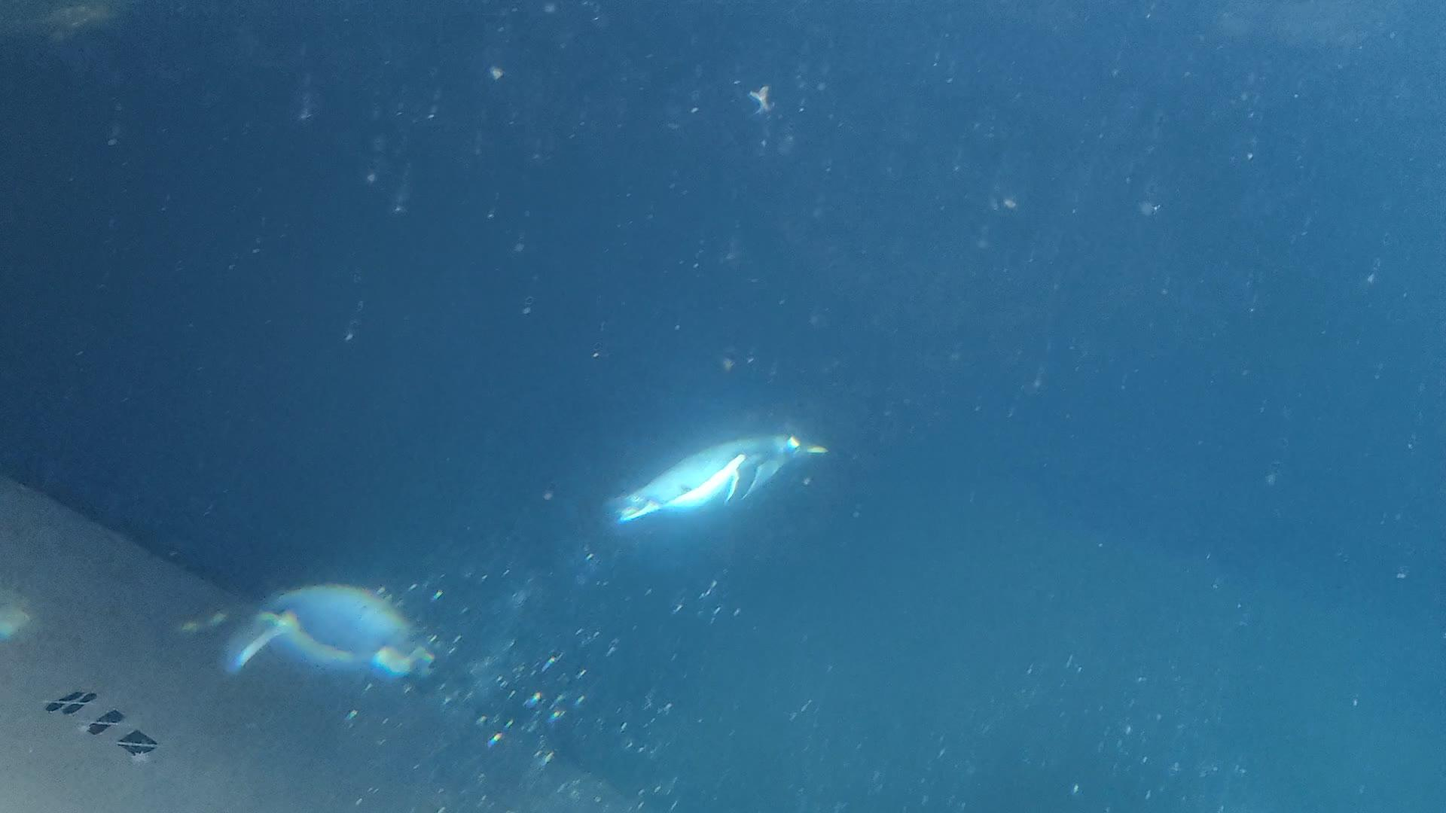apple: (222, 583, 436, 683), (603, 433, 828, 527)
